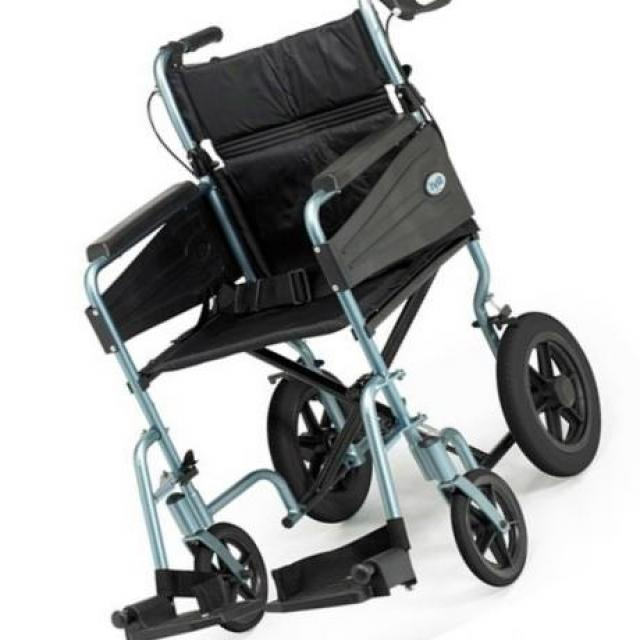wheelchair: (68, 5, 639, 640)
